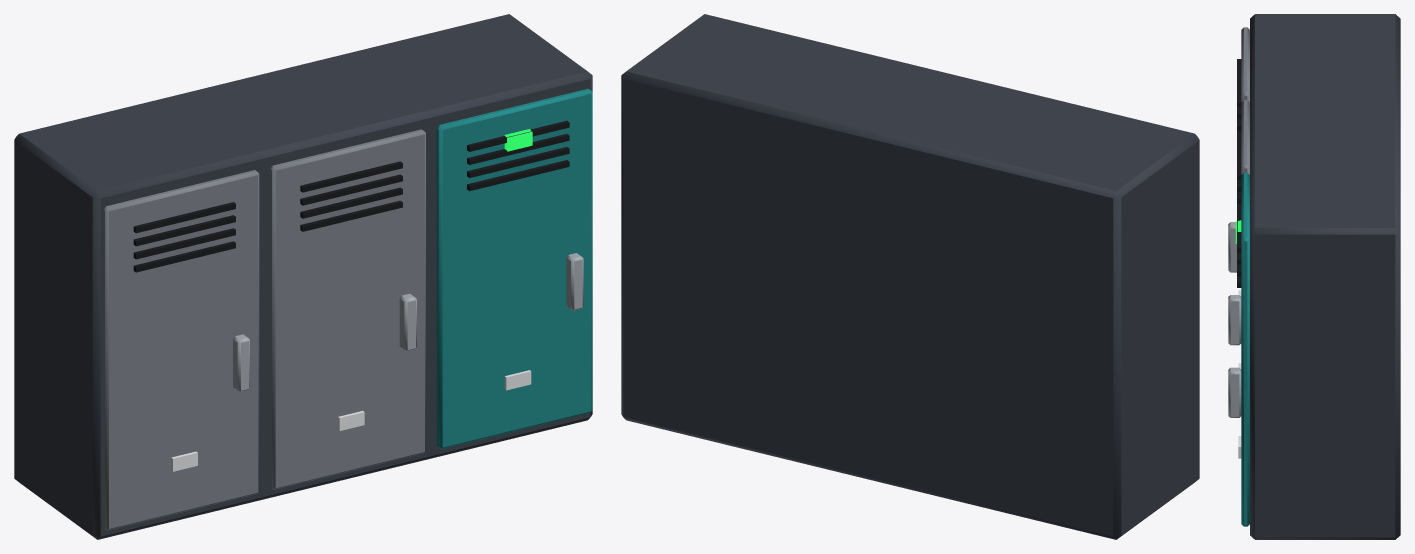
Rendered from cabinet_wall_storage_lockers.glb.
3 renders of one model, left to right at view 1: azimuth 30°, elevation 25°; view 2: azimuth 150°, elevation 25°; view 3: azimuth 270°, elevation 25°, orthographic. The views are drawn at different scales.
Visible parts, largest first — view 1: cabinet_wall_storage_lockers; view 2: cabinet_wall_storage_lockers; view 3: cabinet_wall_storage_lockers.
Boxes of the visible parts, <box> form: cabinet_wall_storage_lockers: <box>14,14,592,539</box>; cabinet_wall_storage_lockers: <box>621,14,1199,539</box>; cabinet_wall_storage_lockers: <box>1228,14,1400,539</box>.
Bounding box in the file's own units: 1.2 × 0.8 × 0.4.
